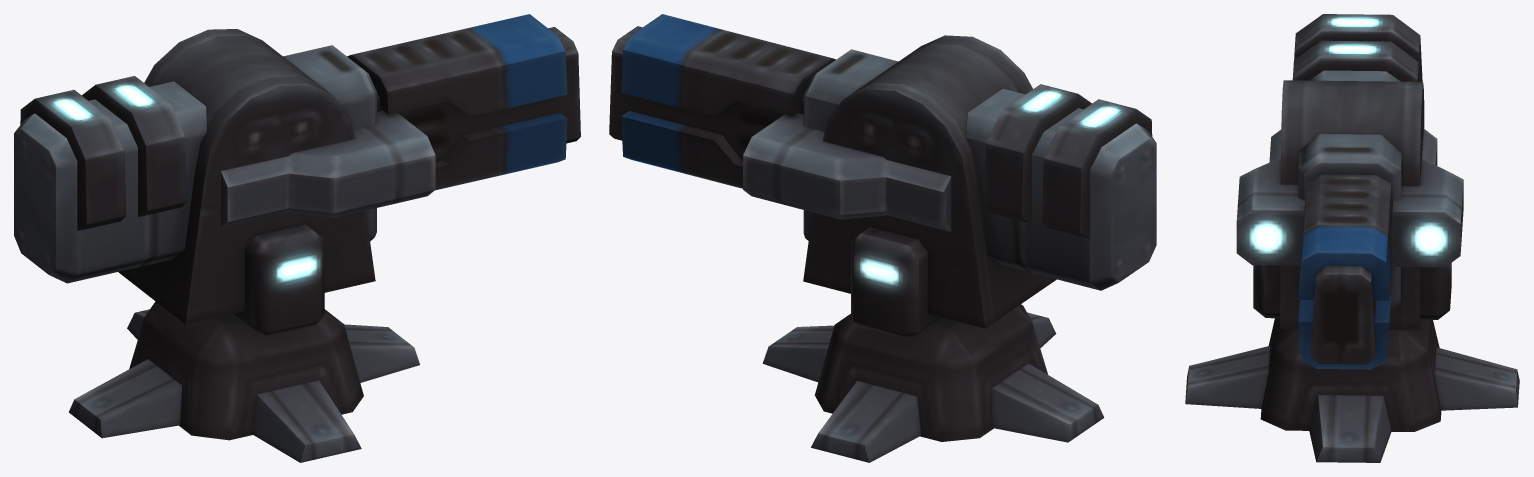
The model's file is Tow_Gauss3.fbx.
3 views of the same model, side by side, from view 1: azimuth 30°, elevation 25°; view 2: azimuth 150°, elevation 25°; view 3: azimuth 270°, elevation 25° (orthographic). The views are drawn at different scales.
Visible parts, largest first — view 1: Turret, Base, Barrel; view 2: Turret, Base, Barrel; view 3: Turret, Base, Barrel.
Boxes of the visible parts, bbox=[...] form: Turret: bbox=[14, 29, 435, 337]; Base: bbox=[69, 301, 419, 462]; Barrel: bbox=[347, 14, 580, 190]; Turret: bbox=[743, 35, 1156, 339]; Base: bbox=[762, 304, 1104, 462]; Barrel: bbox=[609, 14, 835, 188]; Turret: bbox=[1236, 14, 1463, 330]; Base: bbox=[1185, 318, 1519, 462]; Barrel: bbox=[1298, 174, 1392, 369].
Bounding box in the file's own units: 251 × 153 × 152.
1 material, 1 textured.
